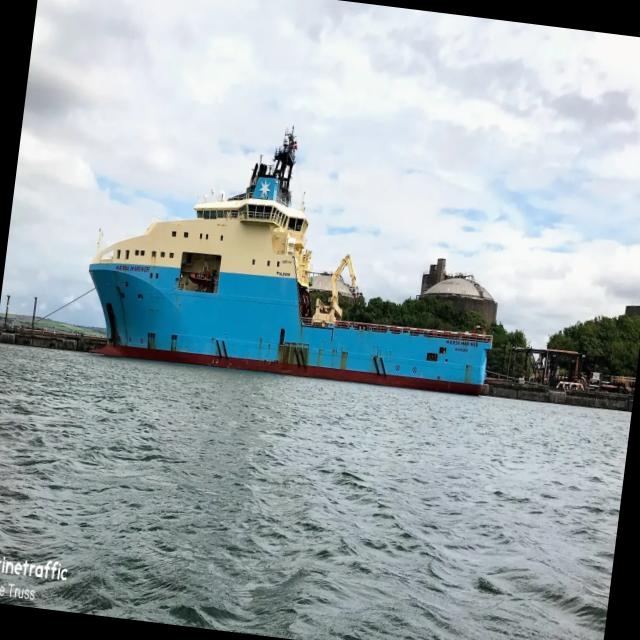Offshore: (88, 130, 491, 395)
